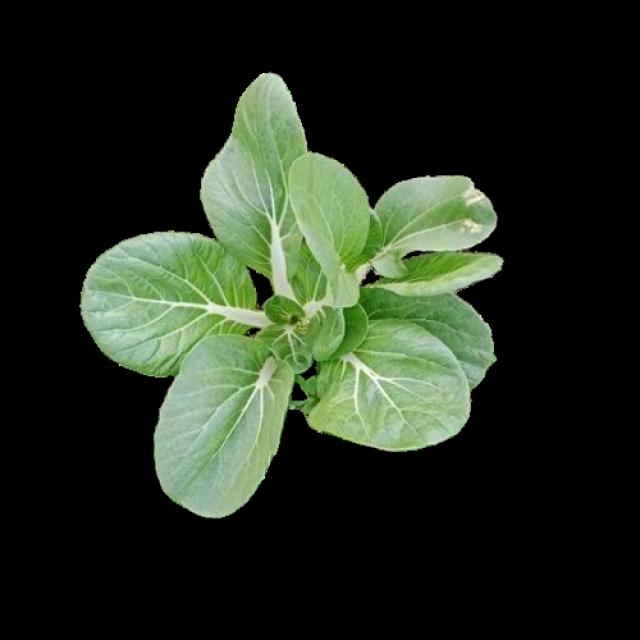not-mature: (80, 73, 500, 515)
unhealthy: (380, 175, 493, 247)
